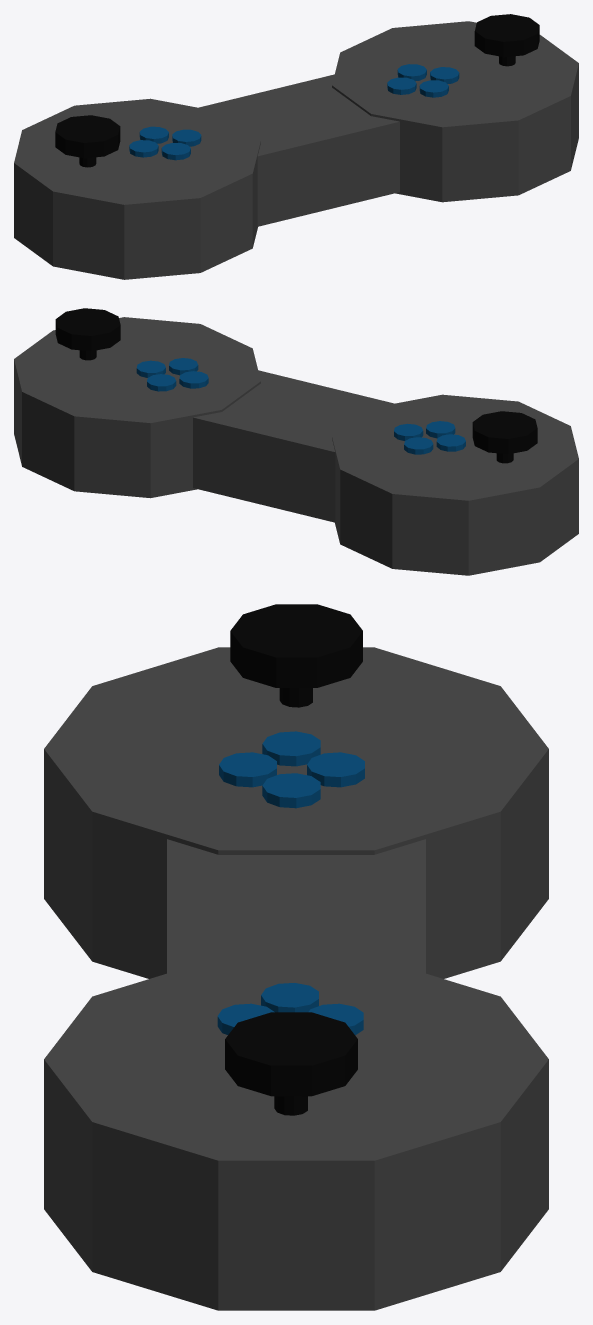
File: controller.fbx
3 renders of one model, top to bottom at view 1: azimuth 30°, elevation 25°; view 2: azimuth 150°, elevation 25°; view 3: azimuth 270°, elevation 25°, orthographic. The views are drawn at different scales.
Parts seen in each view (by area): view 1: pCylinder1, pCylinder15, pCube1, pCylinder24, pCylinder3, pCylinder22, pCylinder21, pCylinder18, pCylinder16, pCylinder7, pCylinder20, pCylinder17 (+1 smaller); view 2: pCylinder1, pCylinder15, pCube1, pCylinder3, pCylinder24, pCylinder7, pCylinder22, pCylinder18, pCylinder19, pCylinder17, pCylinder16, pCylinder20 (+1 smaller); view 3: pCylinder15, pCylinder1, pCube1, pCylinder3, pCylinder24, pCylinder17, pCylinder7, pCylinder16, pCylinder18, pCylinder22, pCylinder21, pCylinder19.
Boxes of the visible parts, x1,y1,x2,y2 form: pCylinder1: (14, 98, 260, 279); pCylinder15: (332, 21, 578, 202); pCube1: (199, 74, 399, 226); pCylinder24: (55, 115, 120, 158); pCylinder3: (474, 14, 539, 57); pCylinder22: (387, 77, 416, 94); pCylinder21: (419, 80, 448, 97); pCylinder18: (129, 140, 158, 157); pCylinder16: (161, 143, 190, 160); pCylinder7: (139, 126, 168, 143); pCylinder20: (430, 67, 459, 83); pCylinder17: (172, 129, 201, 146); pCylinder1: (332, 394, 578, 575); pCylinder15: (14, 317, 260, 498); pCube1: (193, 370, 393, 522); pCylinder3: (55, 308, 120, 351); pCylinder24: (472, 411, 537, 454); pCylinder7: (404, 437, 433, 454); pCylinder22: (179, 371, 208, 388); pCylinder18: (436, 434, 465, 451); pCylinder19: (147, 374, 176, 391); pCylinder17: (394, 423, 423, 440); pCylinder16: (426, 421, 455, 438); pCylinder20: (136, 360, 165, 377); pCylinder15: (44, 957, 548, 1310); pCylinder1: (44, 647, 548, 978); pCube1: (167, 839, 425, 973); pCylinder3: (225, 1012, 357, 1096); pCylinder24: (230, 604, 362, 687); pCylinder17: (262, 773, 320, 808); pCylinder7: (307, 752, 364, 787); pCylinder16: (219, 752, 276, 787); pCylinder18: (262, 731, 320, 766); pCylinder22: (261, 983, 318, 1012); pCylinder21: (217, 1003, 274, 1034); pCylinder19: (308, 1003, 363, 1035).
Size of the model in its own units: 4.81 by 0.9594 by 2.
